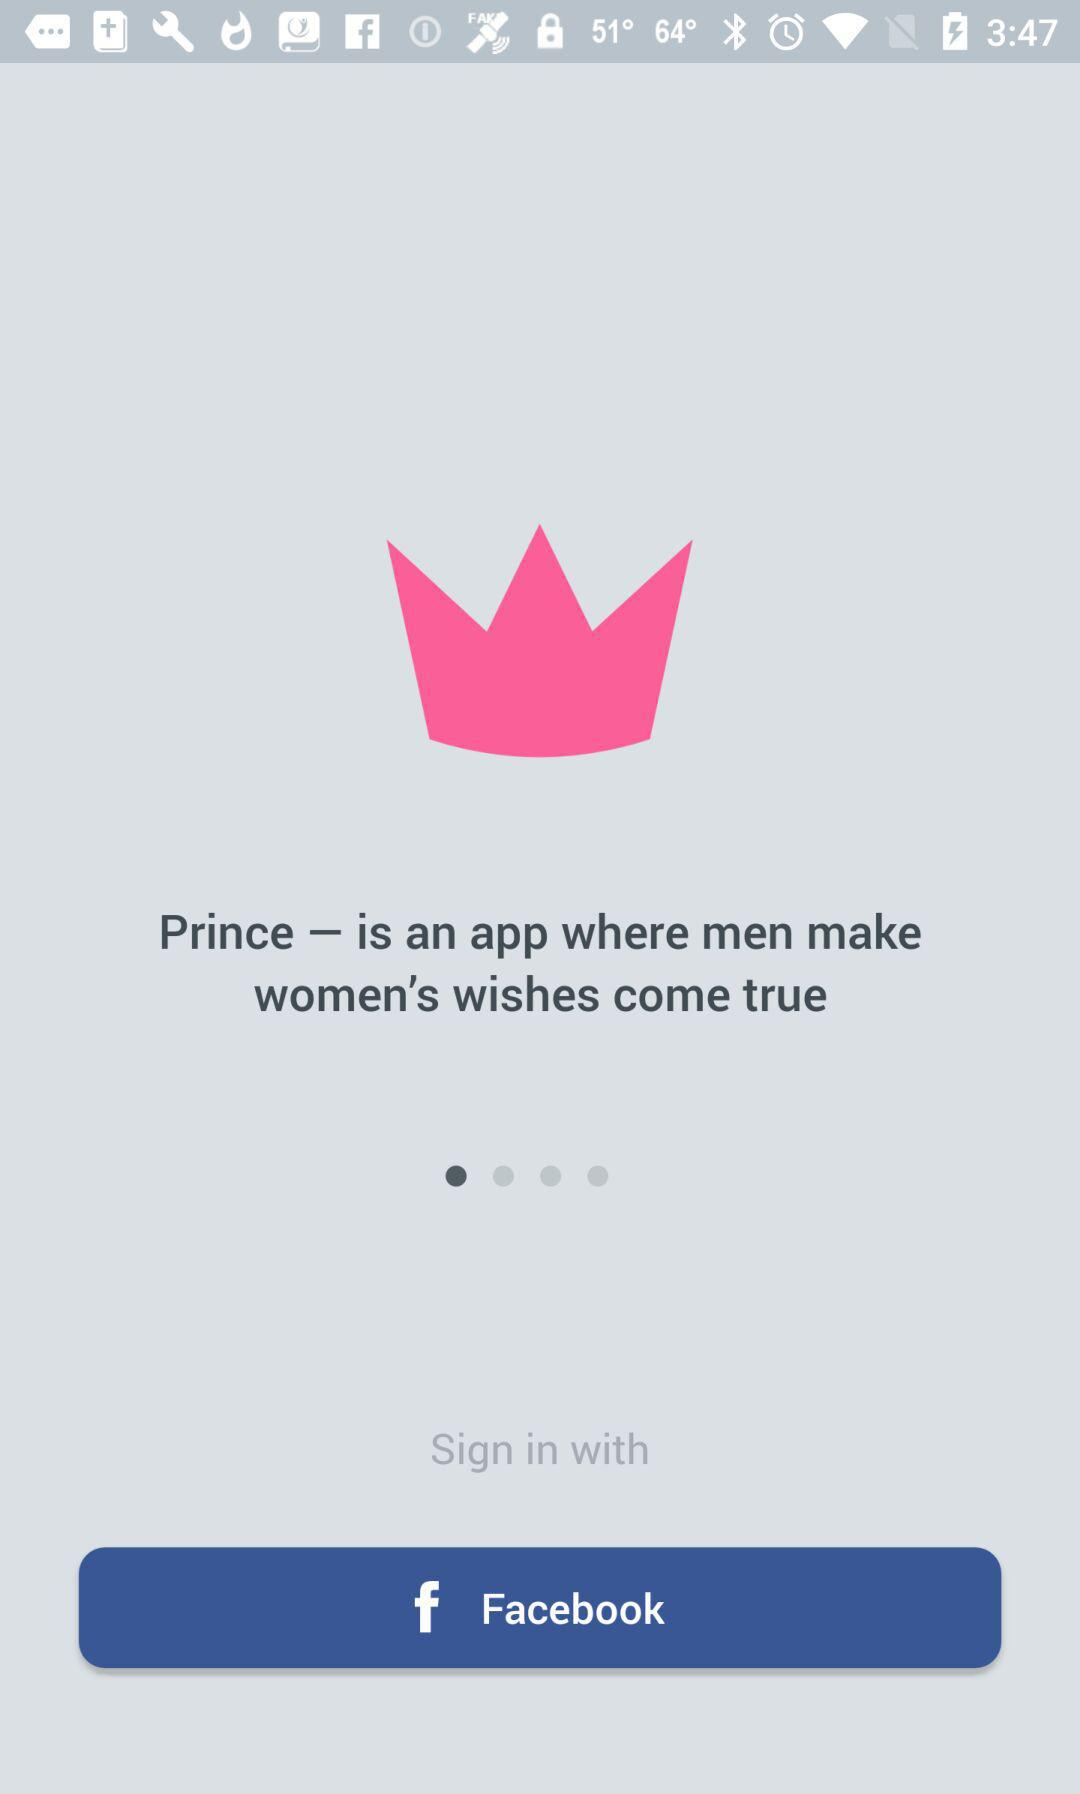Image: (386, 524, 694, 759)
PageIndicator: (445, 1165, 609, 1188)
Text: (161, 911, 922, 1014), (430, 1431, 650, 1474)
TextButton: (79, 1547, 1002, 1668)
UpperTaskBar: (1, 1, 1080, 64)
